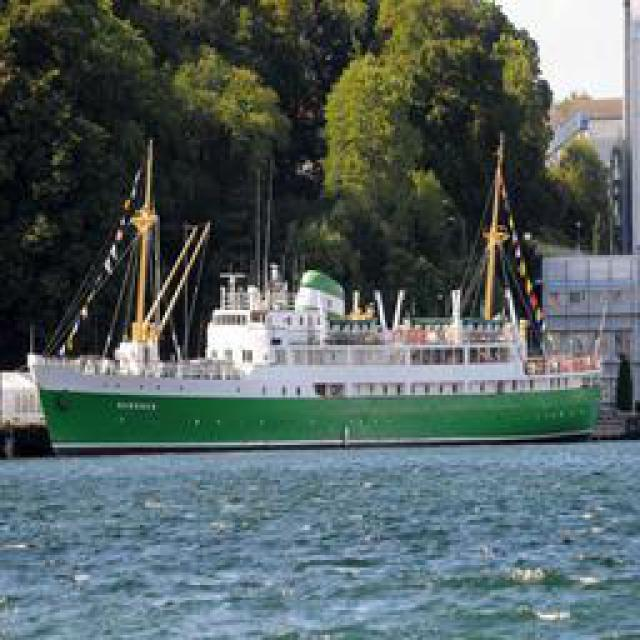Ship: (12, 267, 630, 455)
